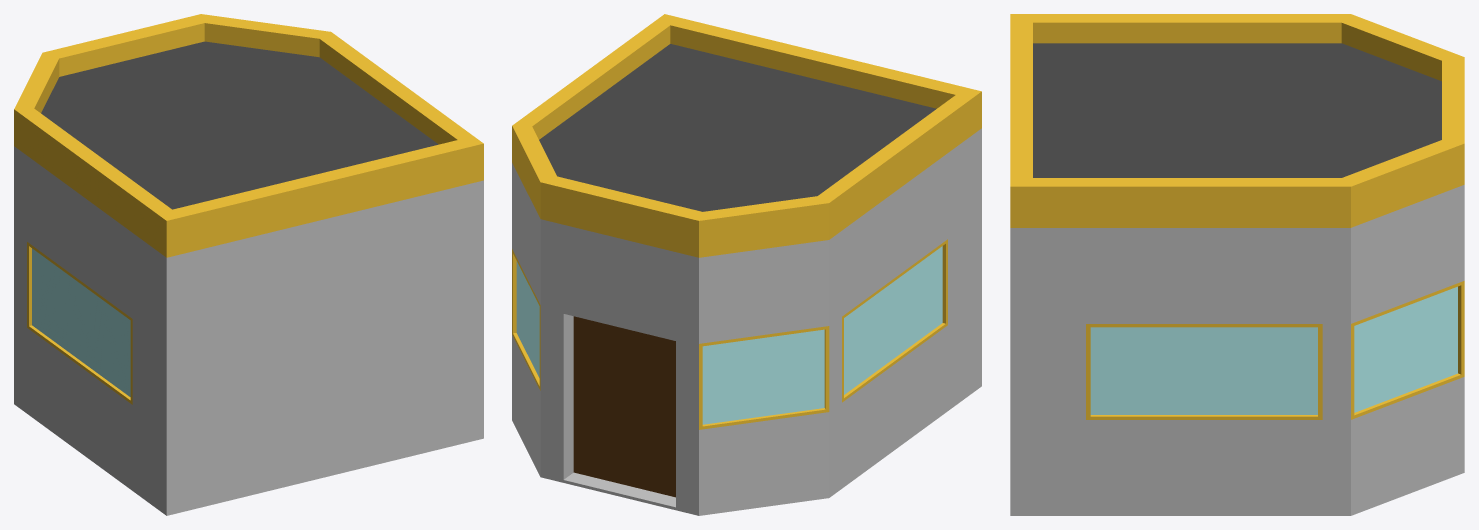
Rendered from CommerceSmall.fbx.
3 renders of one model, left to right at view 1: azimuth 30°, elevation 25°; view 2: azimuth 150°, elevation 25°; view 3: azimuth 270°, elevation 25°, orthographic. The views are drawn at different scales.
Visible parts, largest first — view 1: MainBuilding; view 2: MainBuilding; view 3: MainBuilding.
Boxes of the visible parts, x1,y1,x2,y2 form: MainBuilding: [14, 14, 483, 515]; MainBuilding: [512, 14, 981, 515]; MainBuilding: [1010, 14, 1464, 515].
Size of the model in its own units: 90 by 80 by 100.
1 material, 1 textured.
